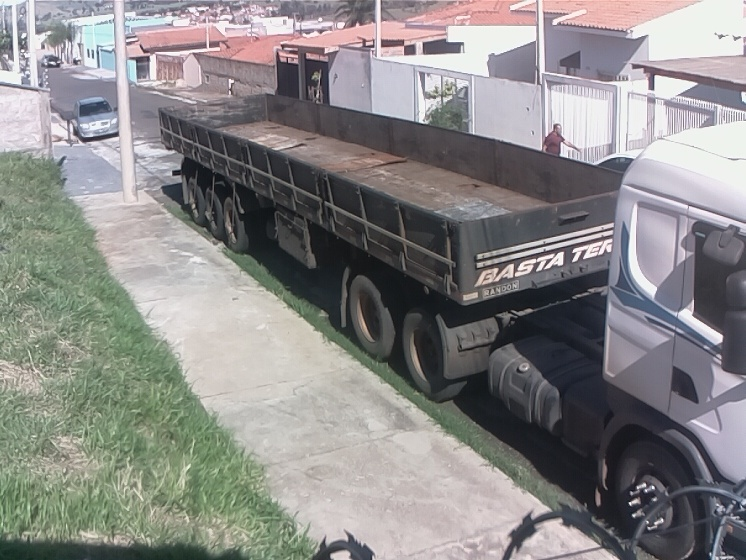person: (540, 120, 583, 162)
